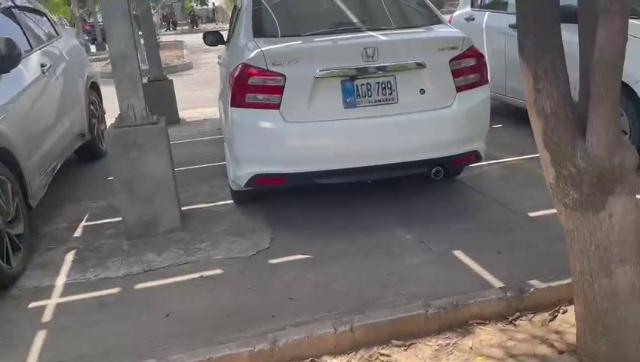plate: (340, 72, 400, 108)
